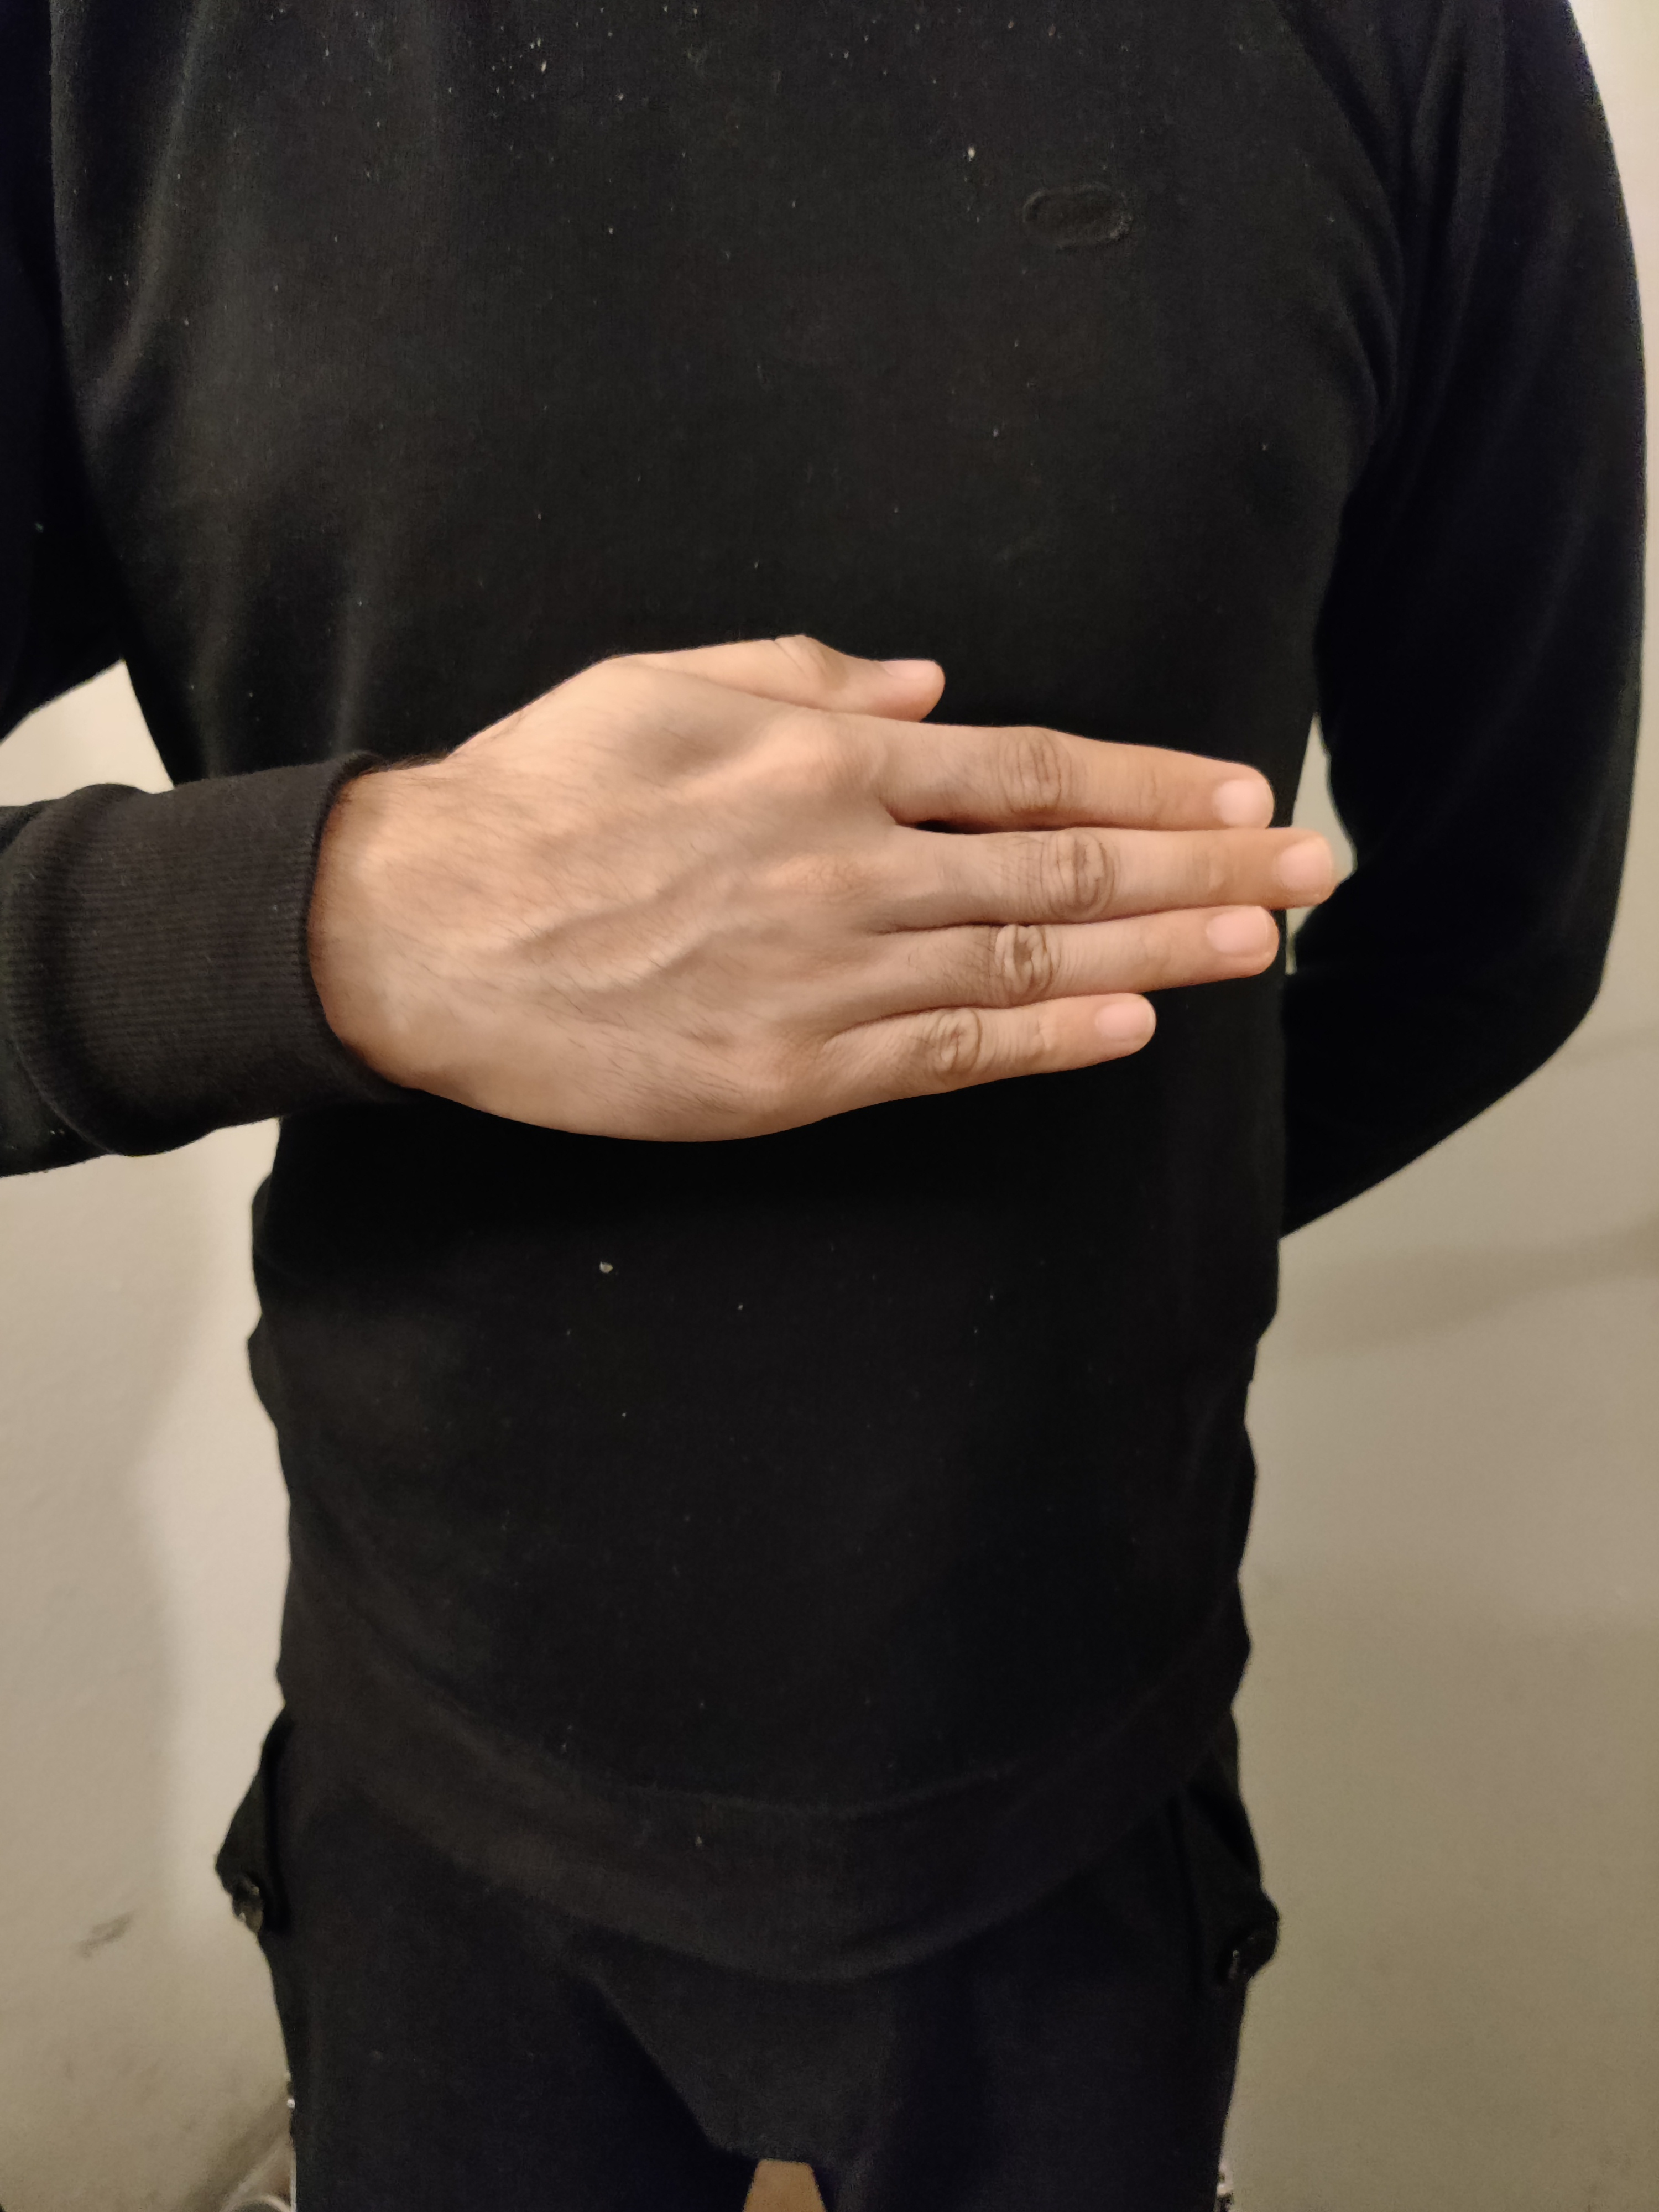left: (120, 413, 1457, 1291)
